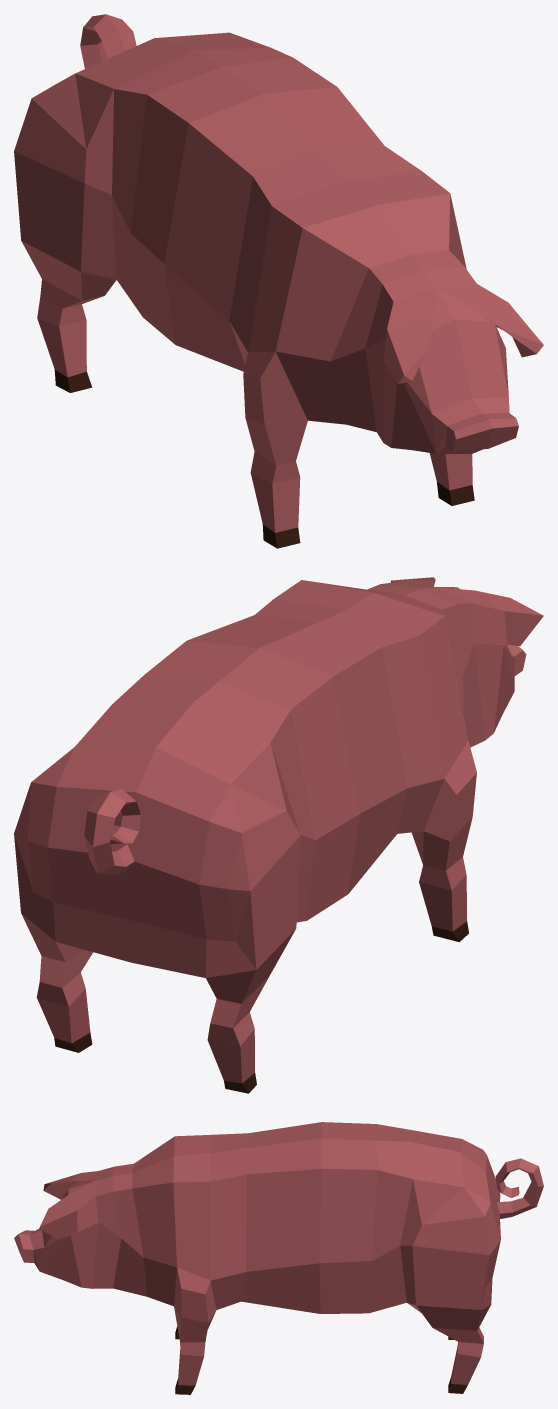
File: Pig_000046.obj
3 renders of one model, top to bottom at view 1: azimuth 30°, elevation 25°; view 2: azimuth 150°, elevation 25°; view 3: azimuth 270°, elevation 25°, orthographic. The views are drawn at different scales.
Parts seen in each view (by area): view 1: Pig_Cylinder; view 2: Pig_Cylinder; view 3: Pig_Cylinder.
Part boxes in pixels (x1,y1,x2,y2): Pig_Cylinder: (14, 14, 543, 548); Pig_Cylinder: (14, 577, 543, 1093); Pig_Cylinder: (14, 1122, 543, 1394).
Size of the model in its own units: 3.3 by 4.59 by 9.8.
